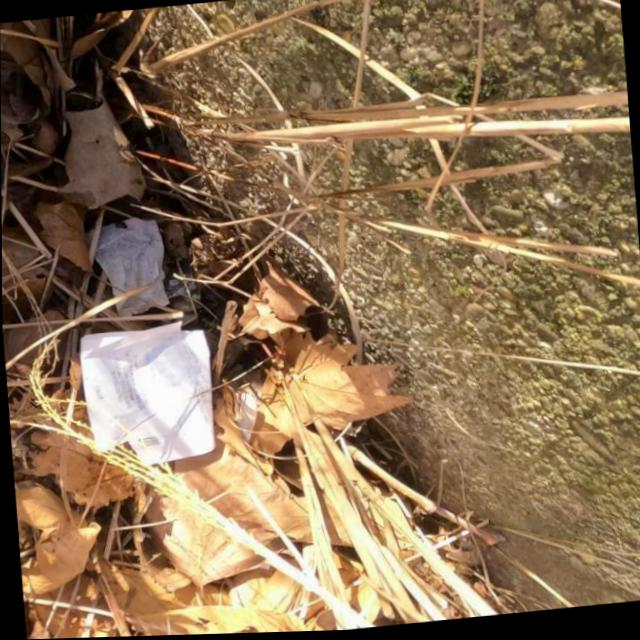Paper: (80, 315, 224, 471)
